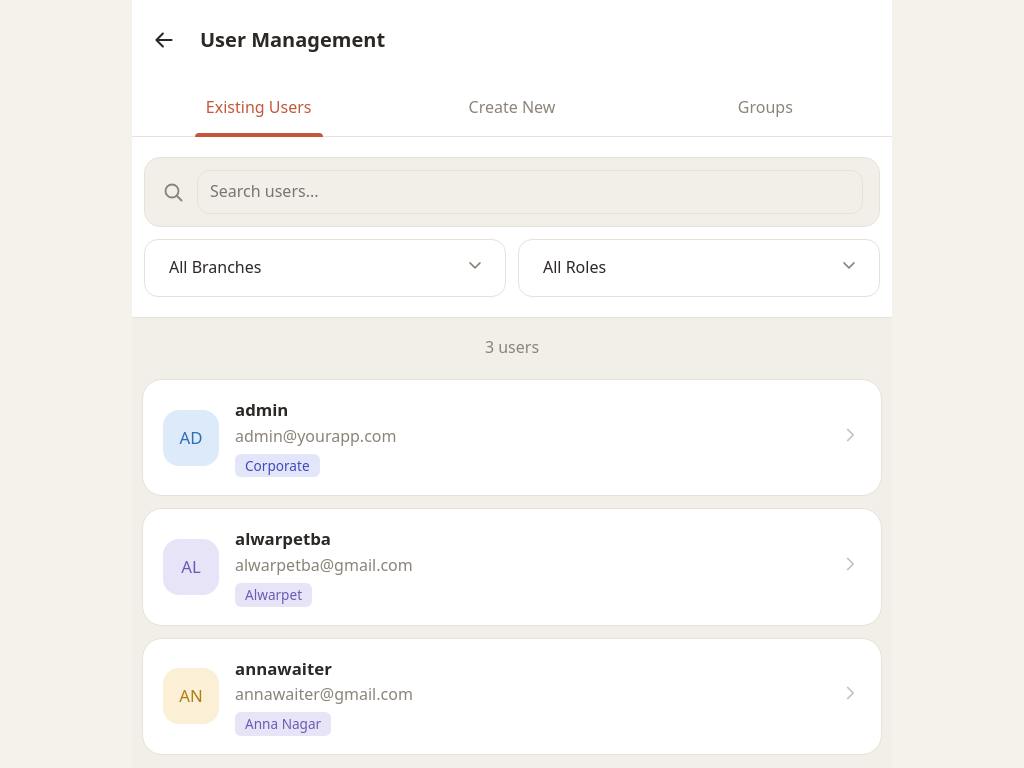
User Management — Groups › is read-only without users.update
This screenshot has width=1024, height=768.
What coordinates should you click on to do the following:
click the tab "Groups"
I would click on:
 (765, 110)
Its box is [639,84,892,136].
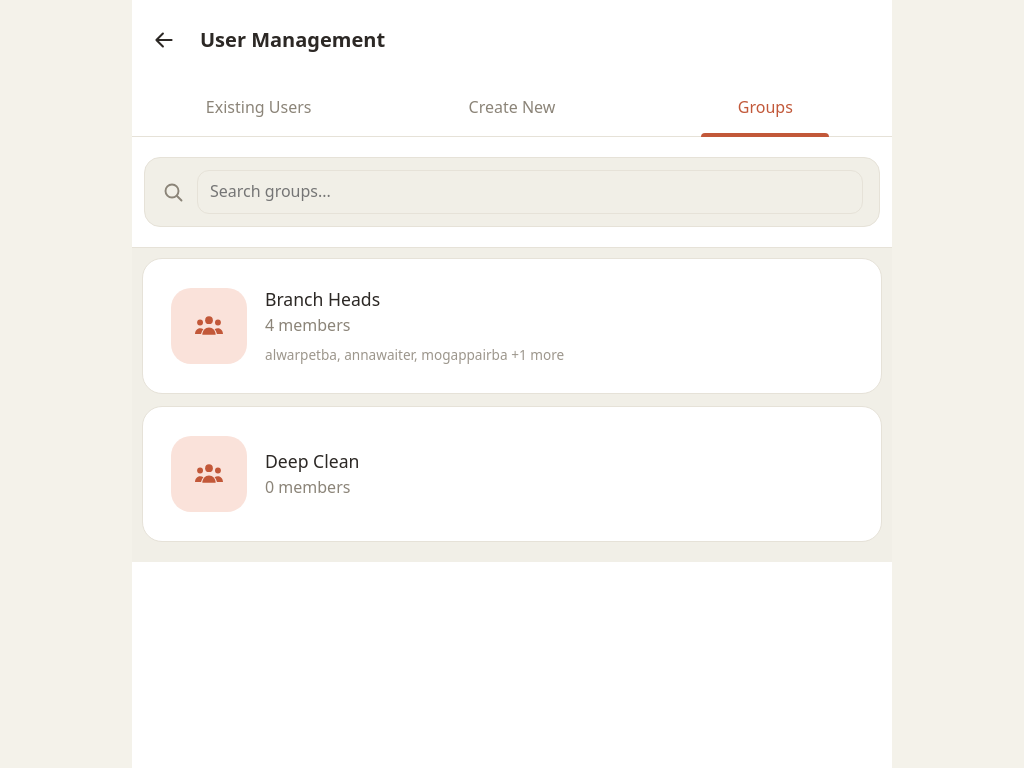
Result: no buttons are shown
